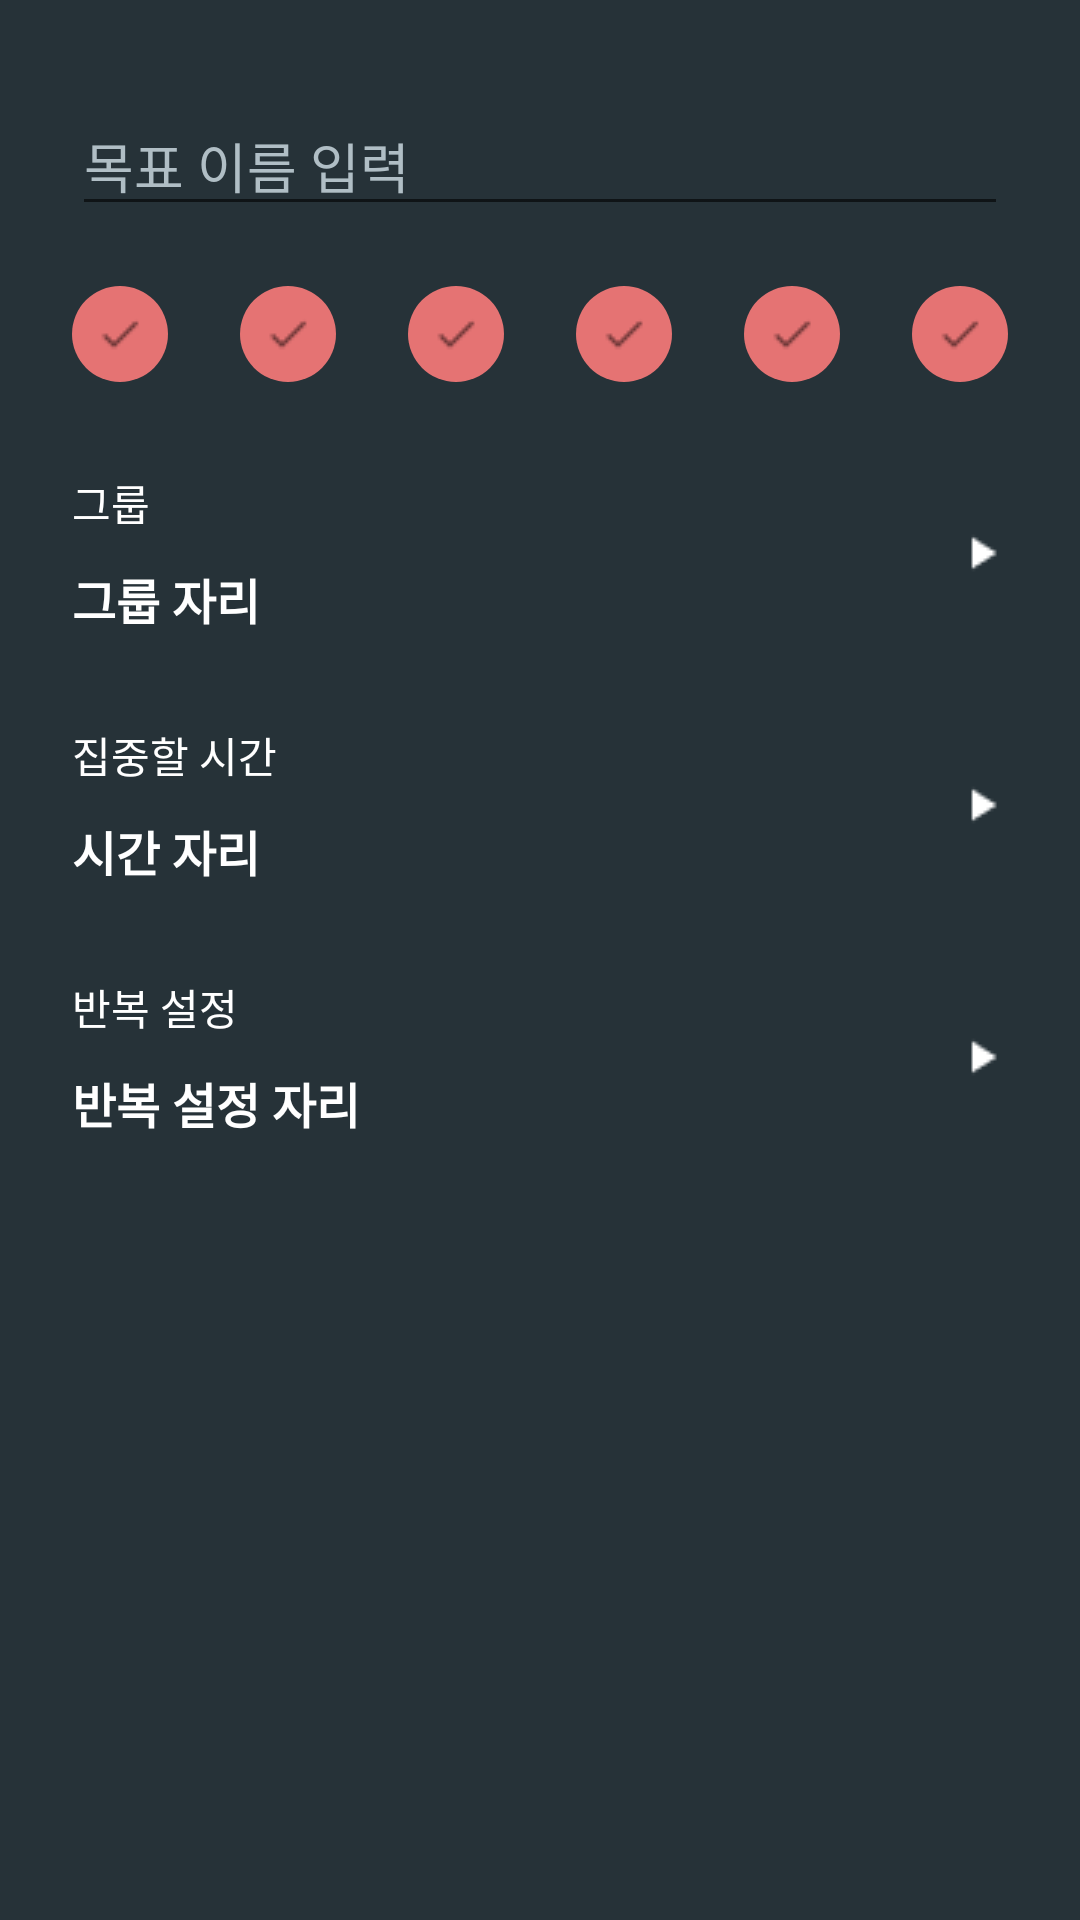

Icons on this 1080 × 1920 Android screen, each with the point to tap as (x=x, y=y):
play arrow: (x=984, y=553), (x=984, y=805), (x=984, y=1057)
